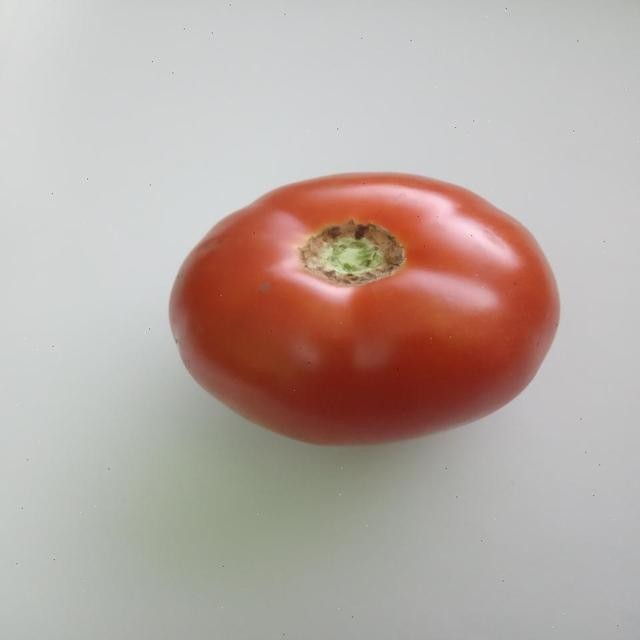Healthy Fruit: (105, 107, 378, 302)
